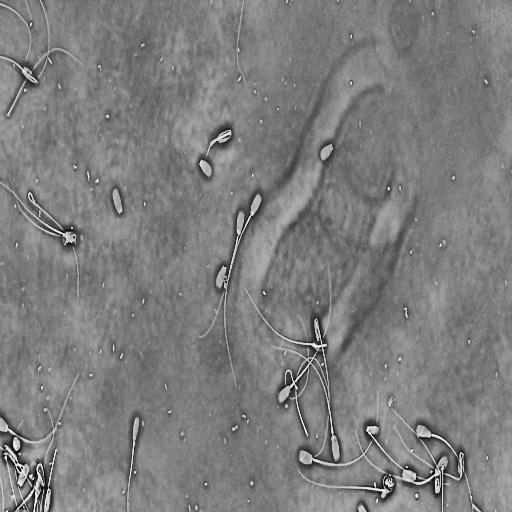coiled-tail: (392, 408, 442, 494)
folded-tail: (366, 428, 452, 485), (394, 424, 463, 481), (313, 320, 330, 458), (203, 131, 231, 176), (0, 56, 38, 84)
loose-head: (111, 185, 124, 217), (214, 262, 228, 291), (319, 140, 334, 163), (400, 466, 418, 485), (198, 157, 213, 179)
loose-tail: (3, 45, 86, 120), (26, 189, 80, 299), (294, 355, 328, 439), (284, 314, 310, 402), (0, 0, 33, 63), (234, 0, 252, 100), (35, 0, 52, 82)
normal: (197, 188, 264, 340), (264, 337, 343, 462), (276, 258, 333, 406), (297, 387, 382, 471), (243, 284, 329, 356), (364, 425, 455, 487), (415, 420, 476, 512), (354, 429, 450, 486), (389, 404, 443, 496), (392, 422, 467, 481), (223, 206, 246, 390), (309, 313, 331, 461), (203, 124, 235, 179), (126, 413, 142, 511), (0, 53, 41, 87)
proximal-droplet: (331, 427, 334, 435), (133, 440, 136, 447)
